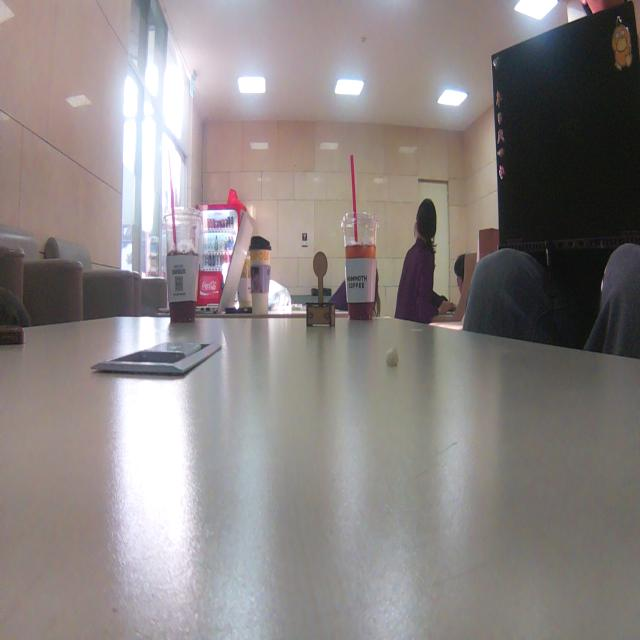target: (306, 251, 336, 328)
